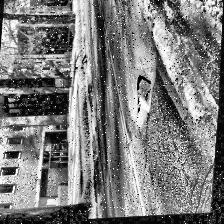pothole: (134, 74, 154, 114)
